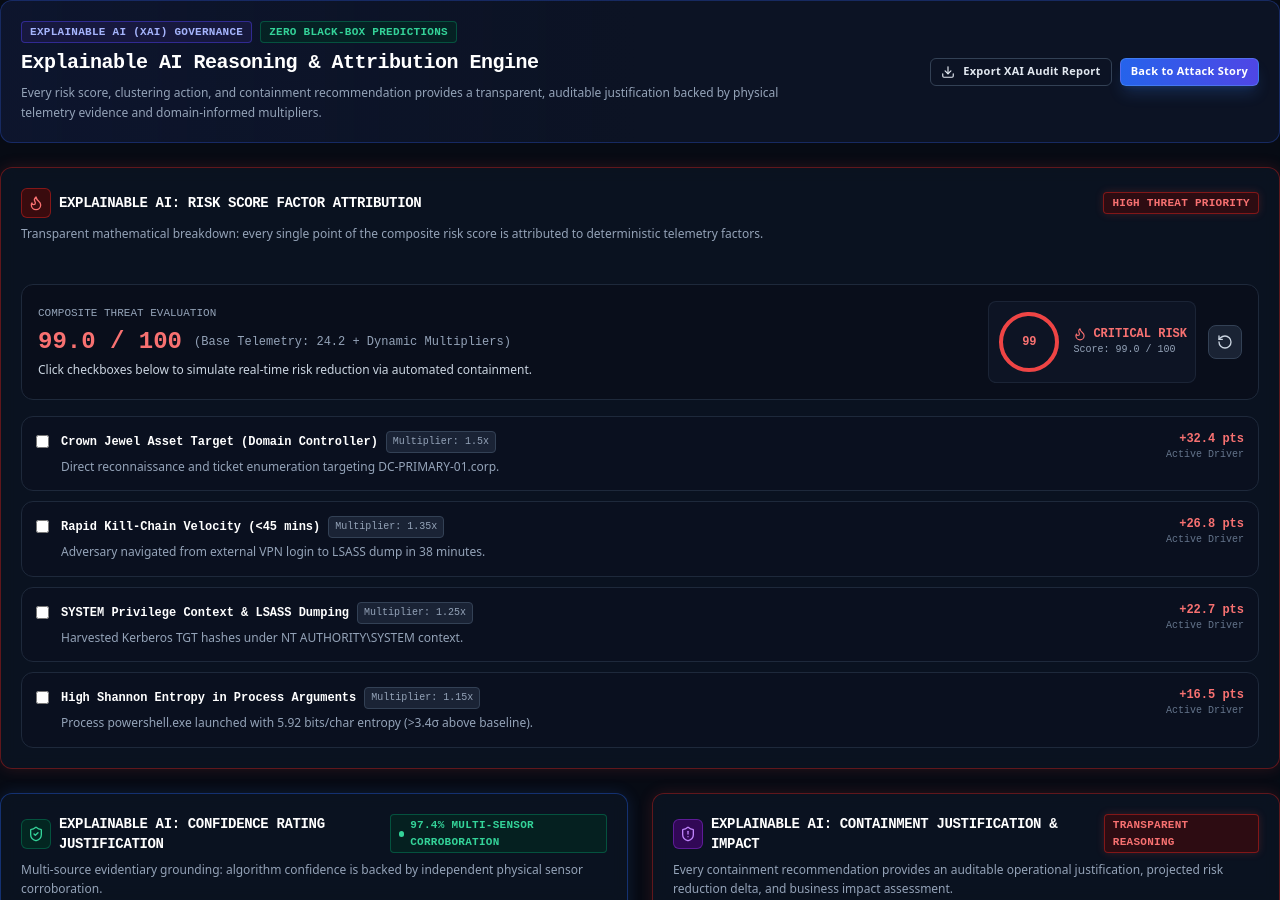
it: XaiWorkspaceView Phase 7 › dynamically recalculates simulated risk score upon mitigating a driver
The width and height of the screenshot is (1280, 900).
# Click to simulate mitigation
What coordinates should you click on to do the following:
click the text "Crown Jewel Asset Target (Domain Controller)"
I would click on:
 (219, 442)
Its box is [61,434,378,450].
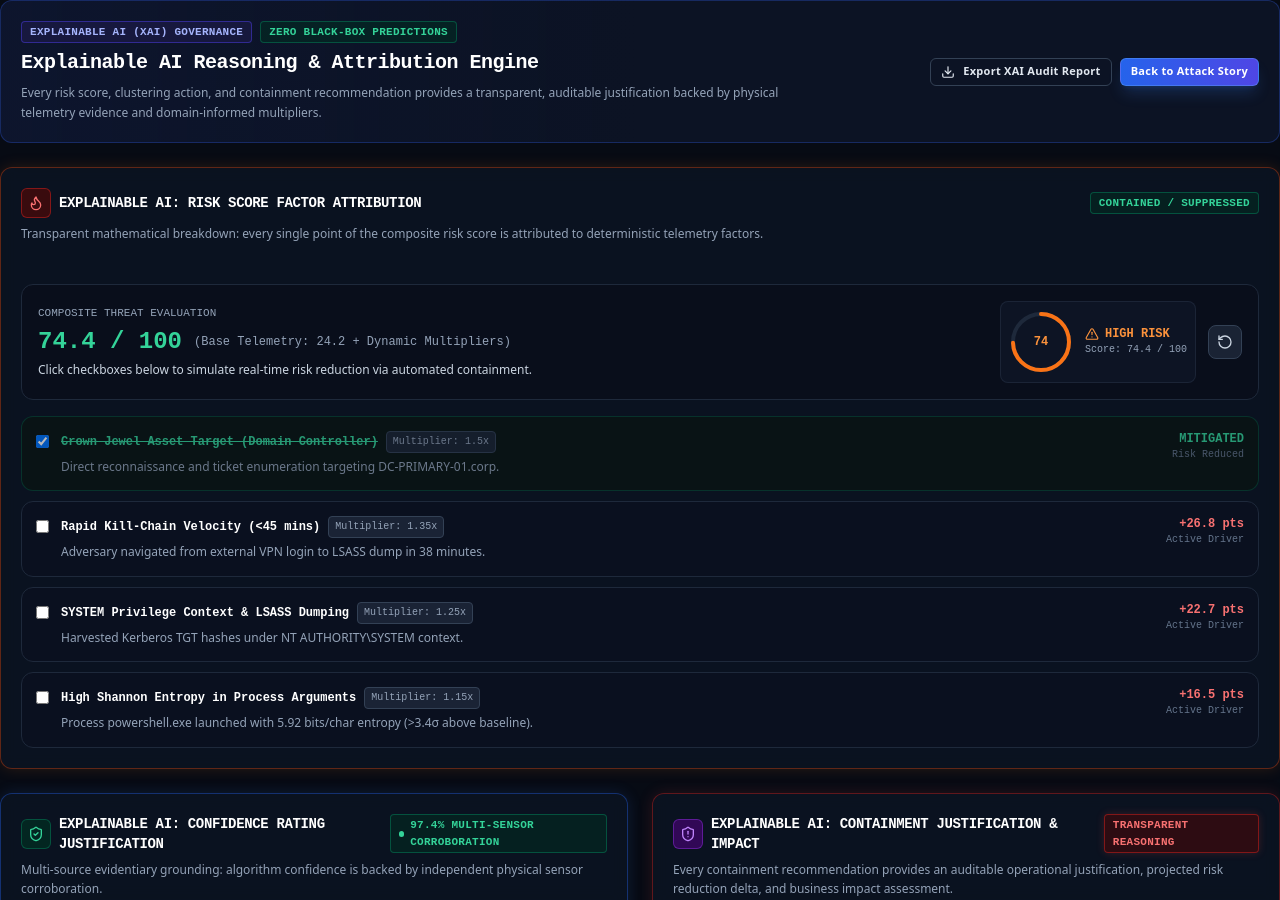
Check: the text "MITIGATED" is shown, box [1179,432,1244,446]
